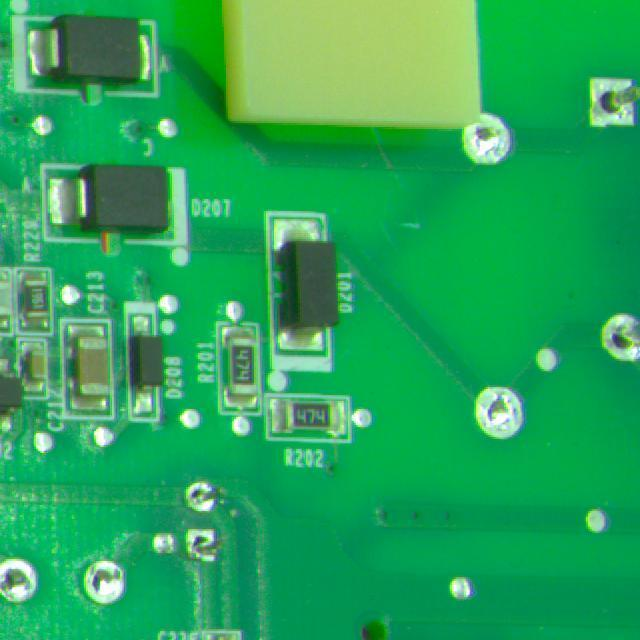Insufficient solder: (455, 106, 516, 173), (470, 371, 528, 441), (583, 71, 639, 135), (80, 556, 133, 607), (0, 551, 44, 611), (602, 305, 640, 363), (179, 477, 231, 519), (179, 523, 227, 566)
